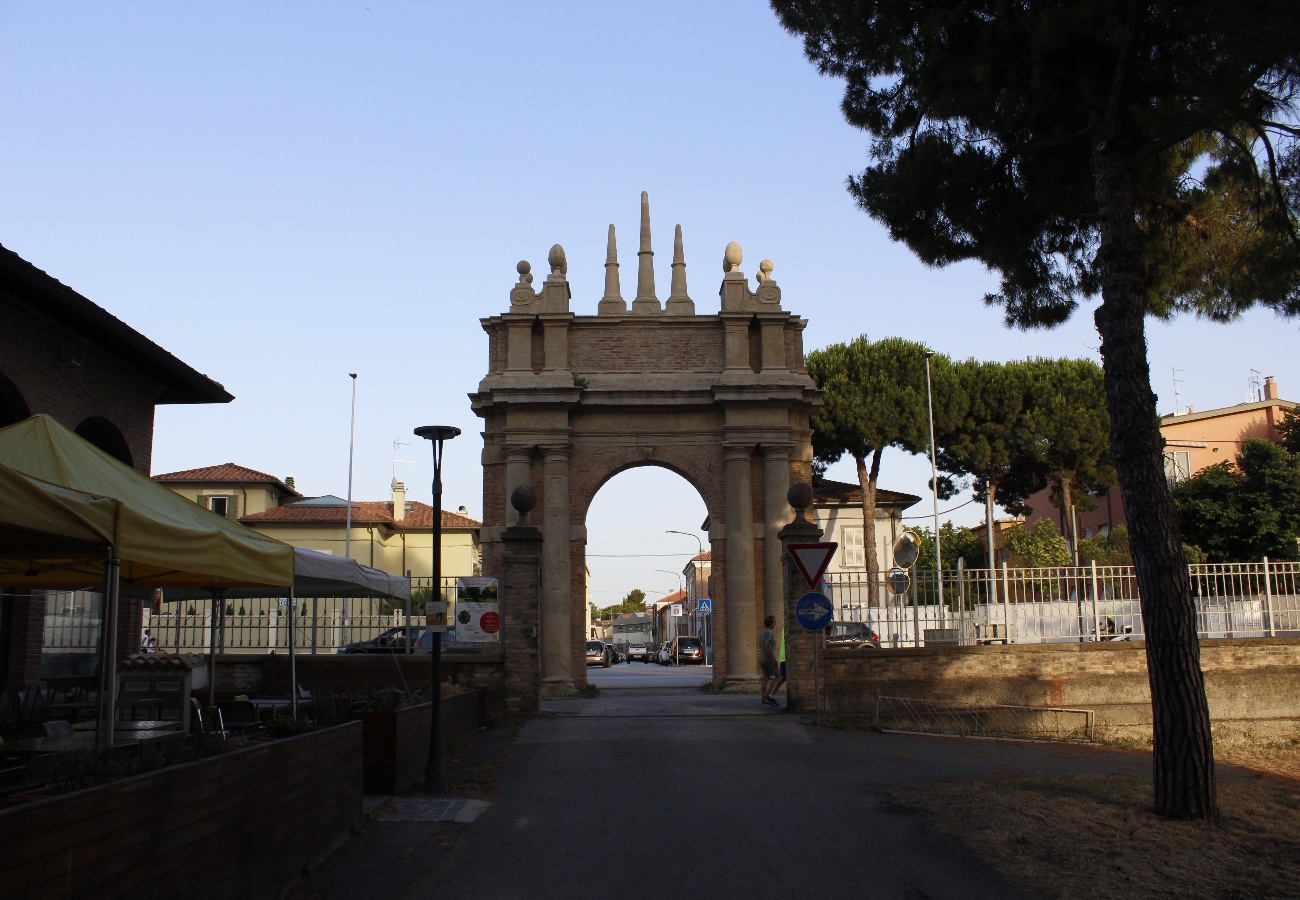Arco di Trionfo: (467, 191, 827, 691)
